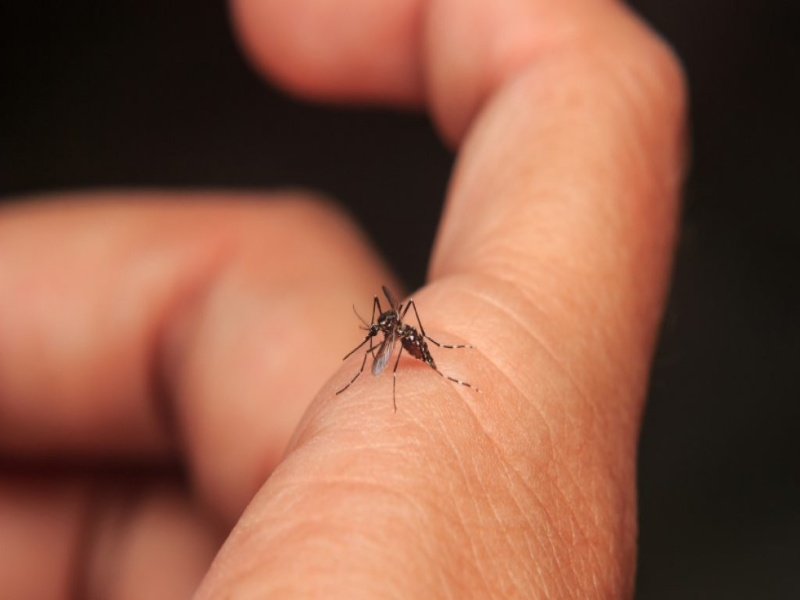dengue_mosquito: (339, 284, 478, 394)
